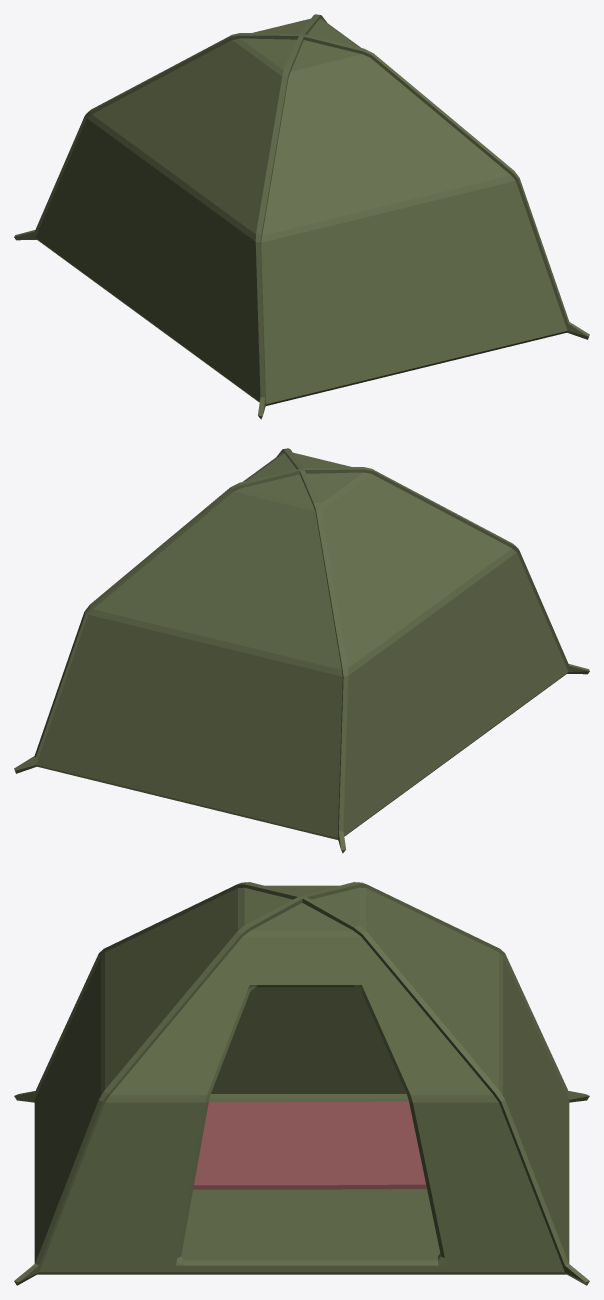
File: cabana.fbx
3 views of the same model, one above another, from view 1: azimuth 30°, elevation 25°; view 2: azimuth 150°, elevation 25°; view 3: azimuth 270°, elevation 25° (orthographic). The views are drawn at different scales.
Parts seen in each view (by area): view 1: 2; view 2: 2; view 3: 2, 2_a.
Part boxes in pixels (x1,y1,x2,y2): 2: [14, 14, 589, 419]; 2: [14, 448, 589, 853]; 2: [14, 882, 589, 1285]; 2_a: [193, 1101, 426, 1189].
Bounding box in the file's own units: 242 × 177 × 312.
